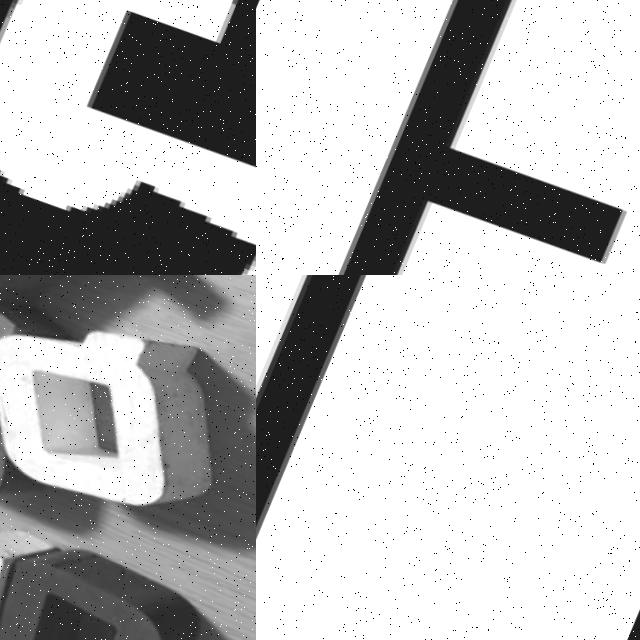F: (265, 0, 640, 275)
G: (0, 0, 256, 275)
H: (0, 458, 86, 640)
I: (0, 275, 190, 410)
L: (256, 275, 617, 640)
O: (0, 511, 209, 640)
P: (0, 303, 67, 517)
Q: (0, 277, 240, 551)
